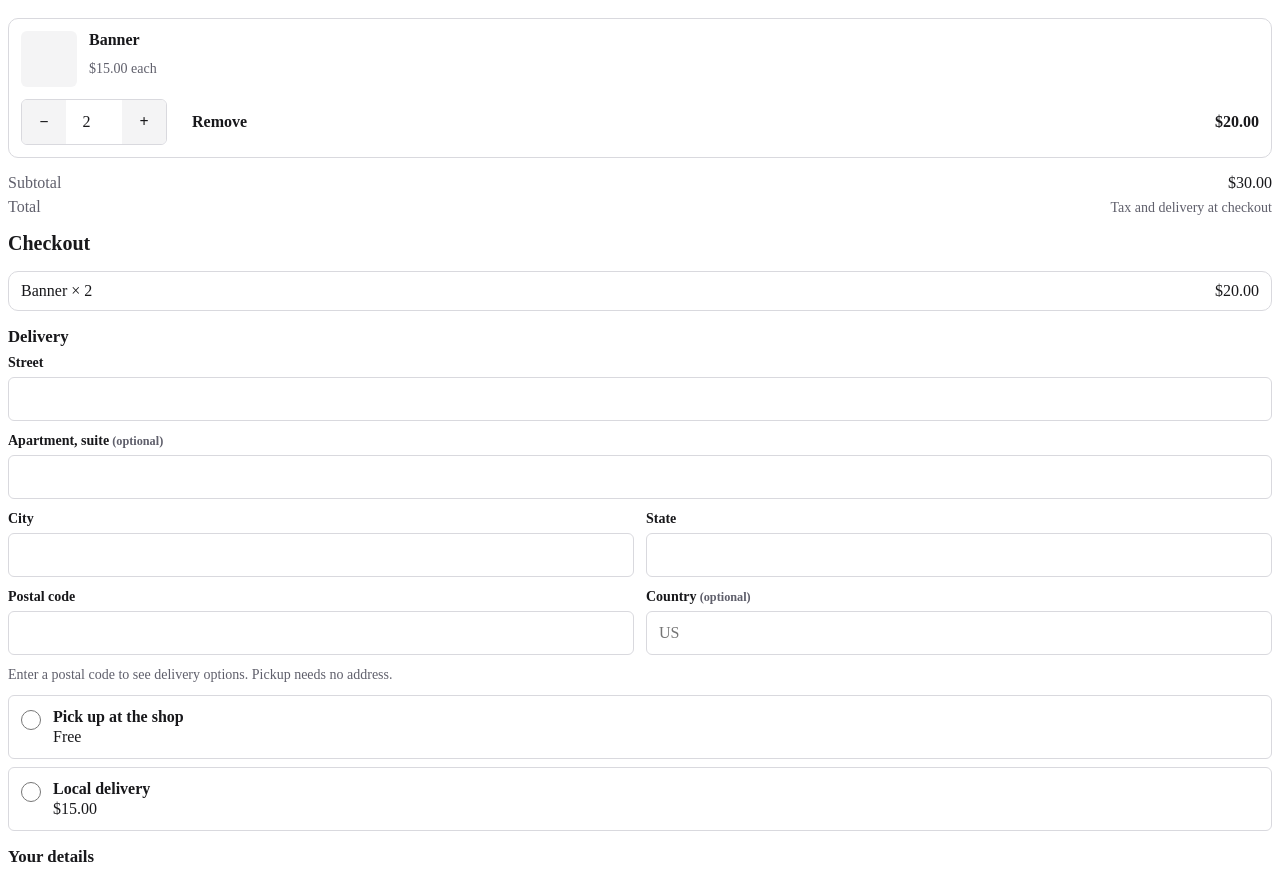
Test: <Checkout> › sends includeTax only after delivery is chosen, and shows the taxed total
Click the radio button labelled "Pick up at the shop Free". click: (31, 720)
box: [21, 710, 41, 730]
(page scrolled)
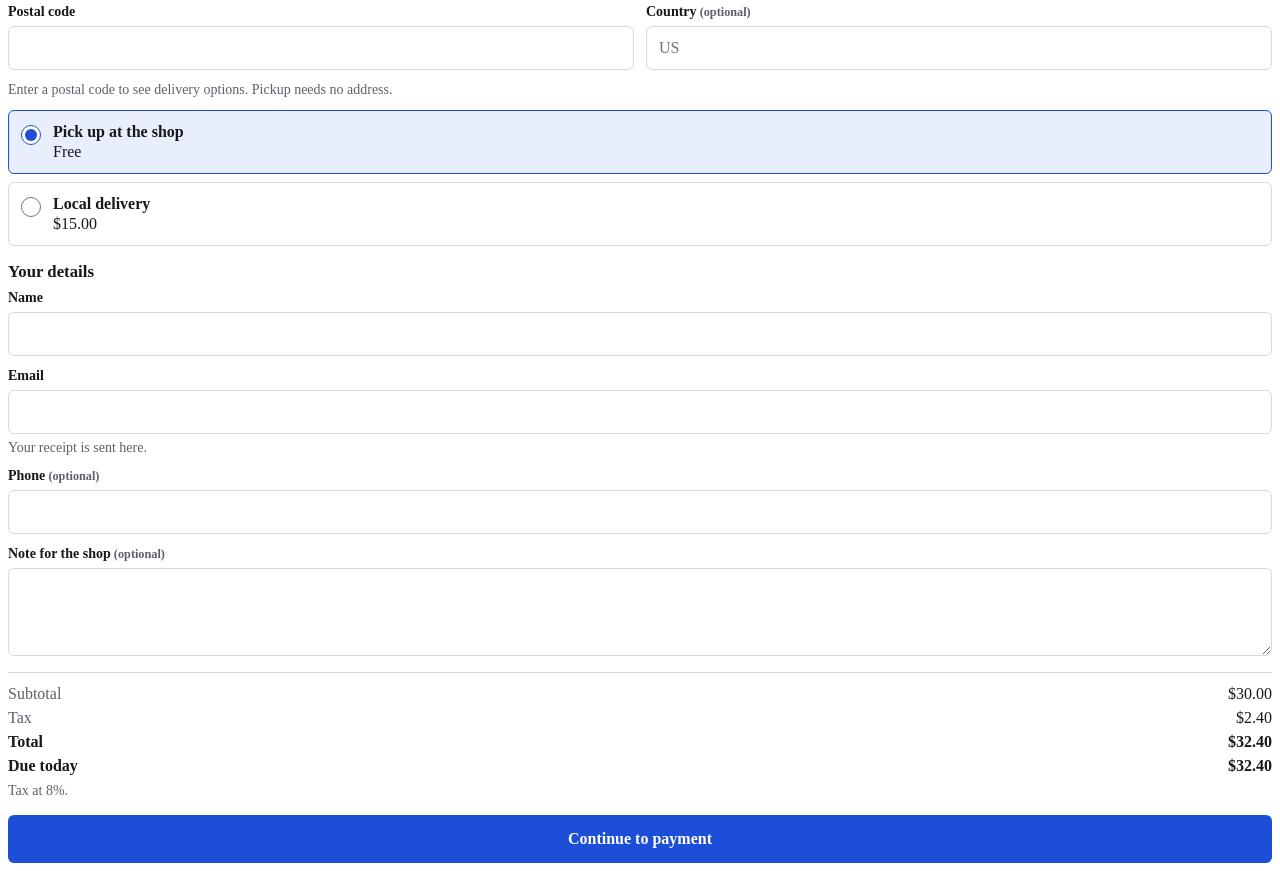
Check: the element named "Order total" shows "$32.40", box [1228, 733, 1272, 750]
Check: the element named "Order total" shows "$2.40", box [1236, 709, 1272, 726]
Check: the element named "Order total" shows "Tax at 8%.", box [8, 783, 68, 798]
